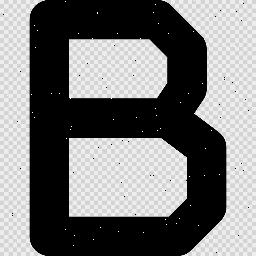b: (22, 0, 234, 256)
